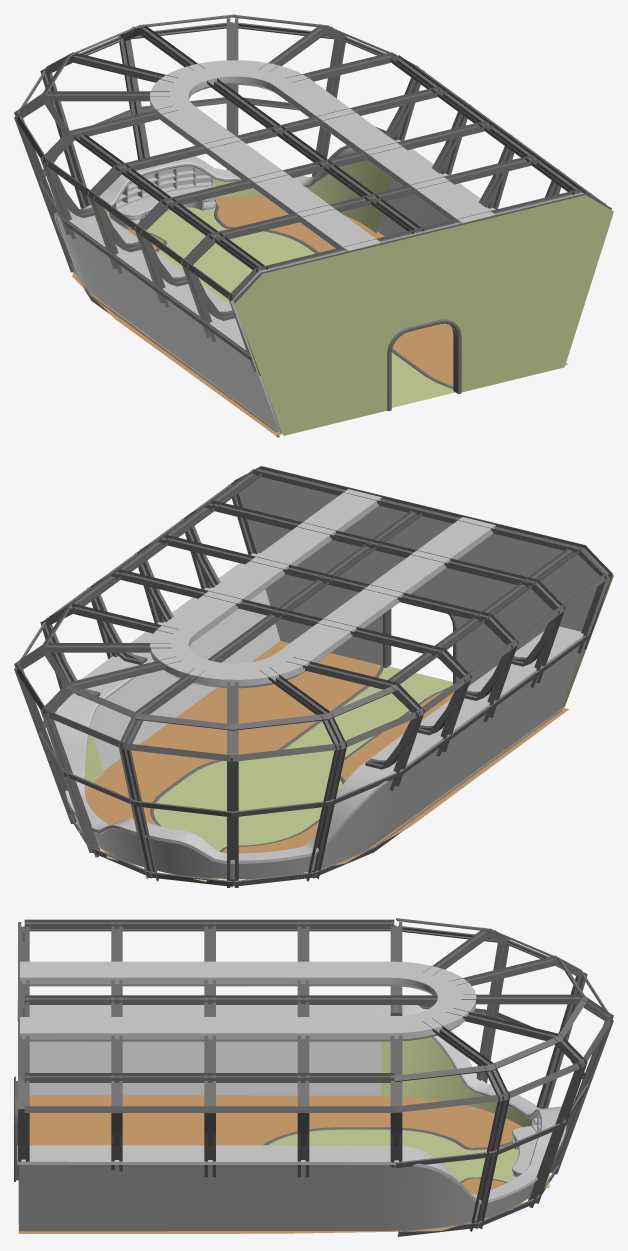
The model's file is ArchitectureGlobal.fbx.
3 renders of one model, top to bottom at view 1: azimuth 30°, elevation 25°; view 2: azimuth 150°, elevation 25°; view 3: azimuth 270°, elevation 25°, orthographic.
Parts seen in each view (by area): view 1: Plane; view 2: Plane; view 3: Plane.
Boxes of the visible parts, x1,y1,x2,y2 form: Plane: [14, 14, 613, 437]; Plane: [14, 466, 613, 887]; Plane: [14, 918, 613, 1236].
Size of the model in its own units: 1872 by 830 by 2575.
